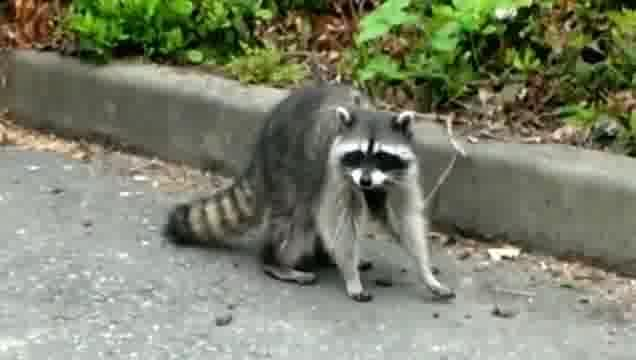raccoon: (165, 84, 465, 310)
